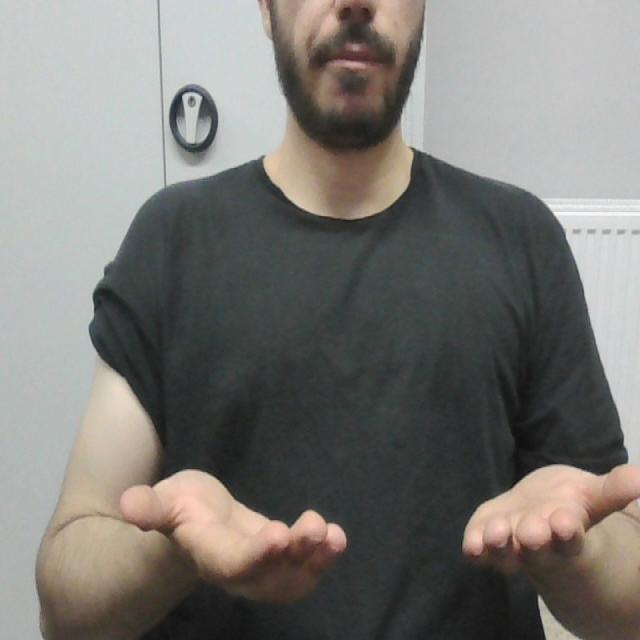Evet: (119, 457, 640, 611)
